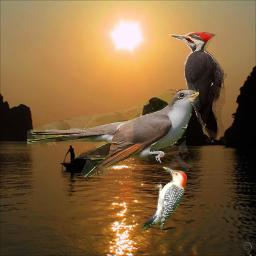Cuckoo: (27, 89, 199, 177)
Woodpecker: (168, 32, 227, 144), (138, 164, 187, 234)
